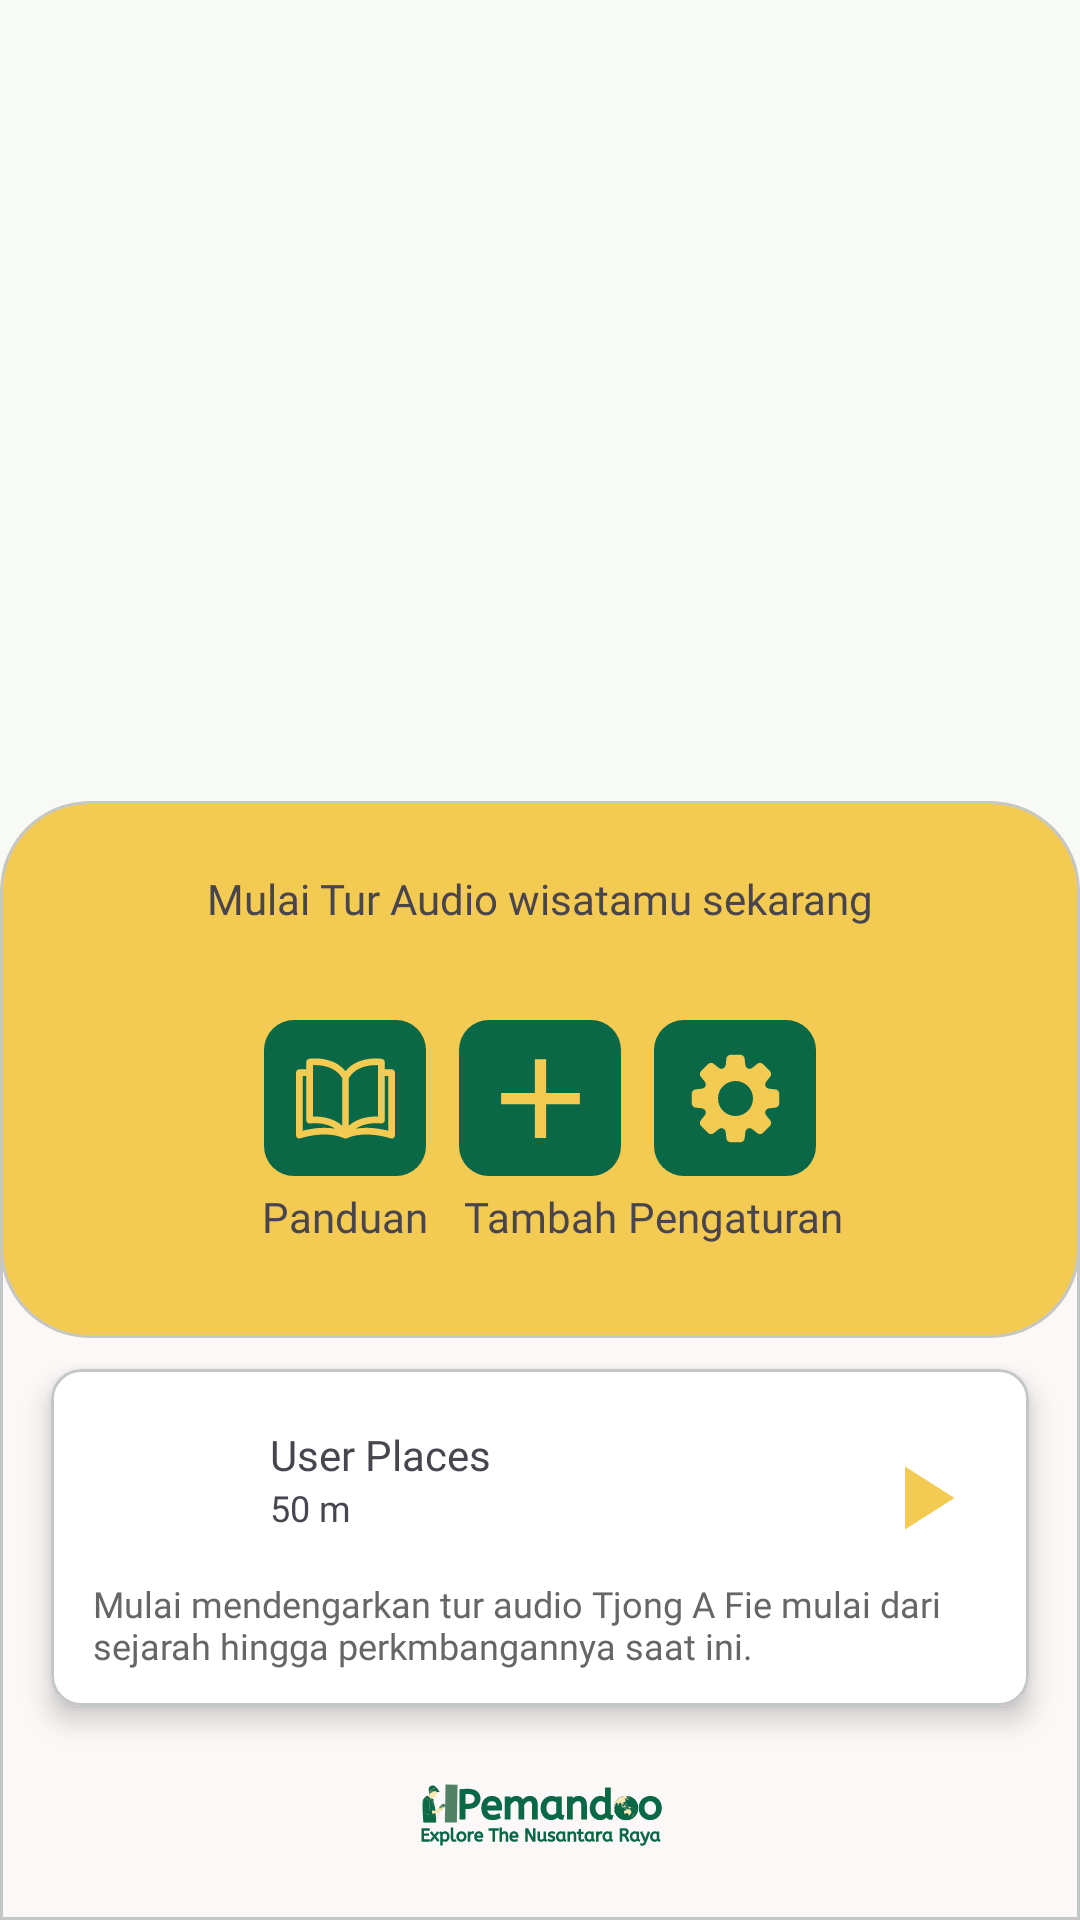

Where to tap for icons on this 1080 x 1920 app screen, as (x,y):
Play Sound Button: (929,1498)
